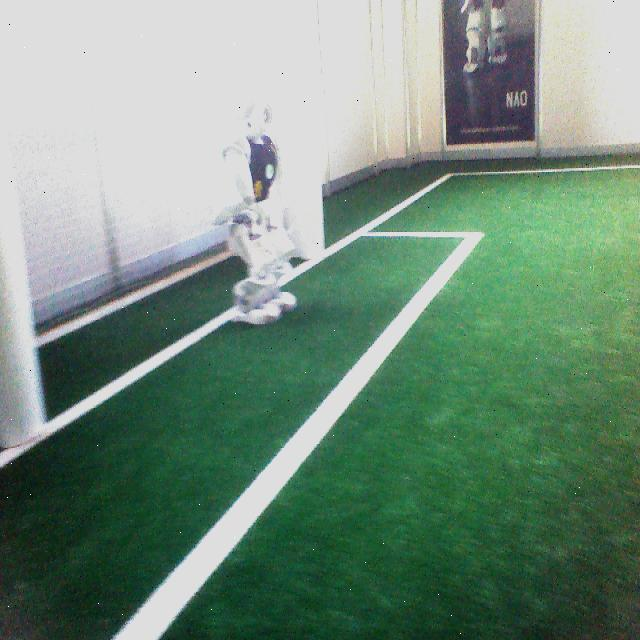goalpost: (0, 129, 46, 451), (274, 72, 323, 257)
